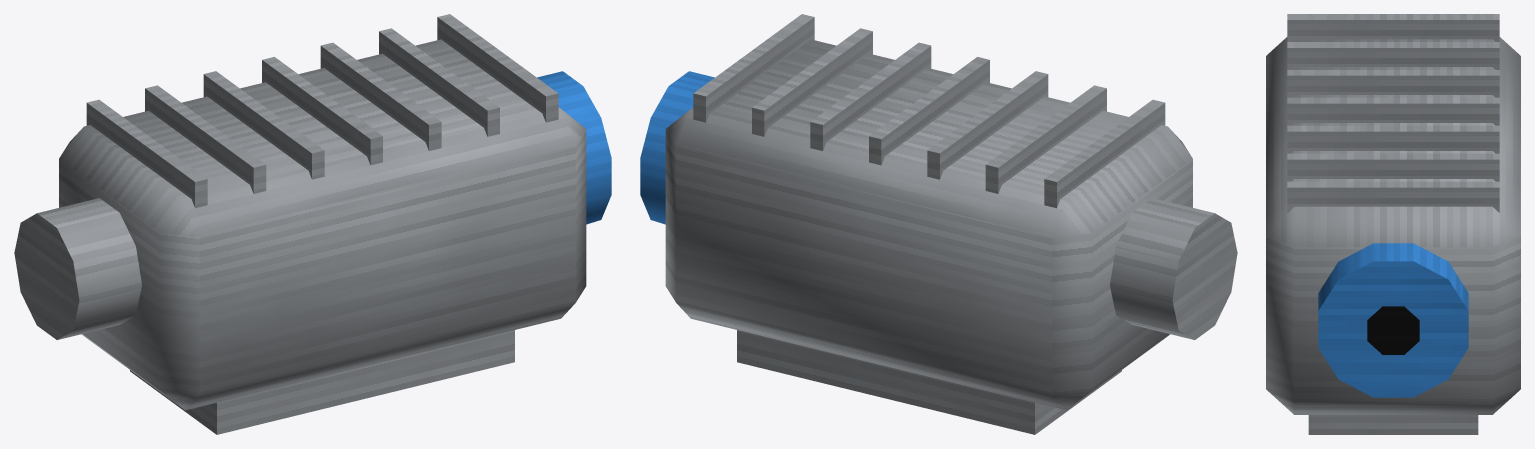
File: compressor_n2.glb
3 views of the same model, side by side, from view 1: azimuth 30°, elevation 25°; view 2: azimuth 150°, elevation 25°; view 3: azimuth 270°, elevation 25° (orthographic). The views are drawn at different scales.
Visible parts, largest first — view 1: compressor_n2; view 2: compressor_n2; view 3: compressor_n2.
Boxes of the visible parts, x1,y1,x2,y2 form: compressor_n2: [14, 14, 611, 434]; compressor_n2: [640, 14, 1237, 434]; compressor_n2: [1266, 14, 1520, 434].
Bounding box in the file's own units: 0.423 × 0.205 × 0.18.
1 material, 1 textured.
